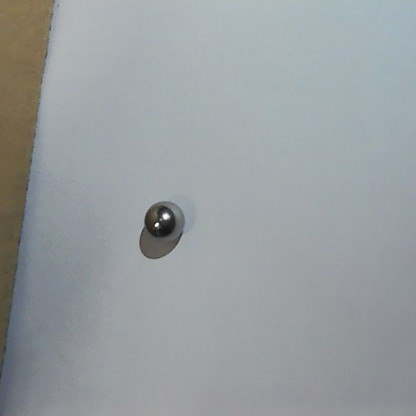ironball: (141, 198, 187, 241)
